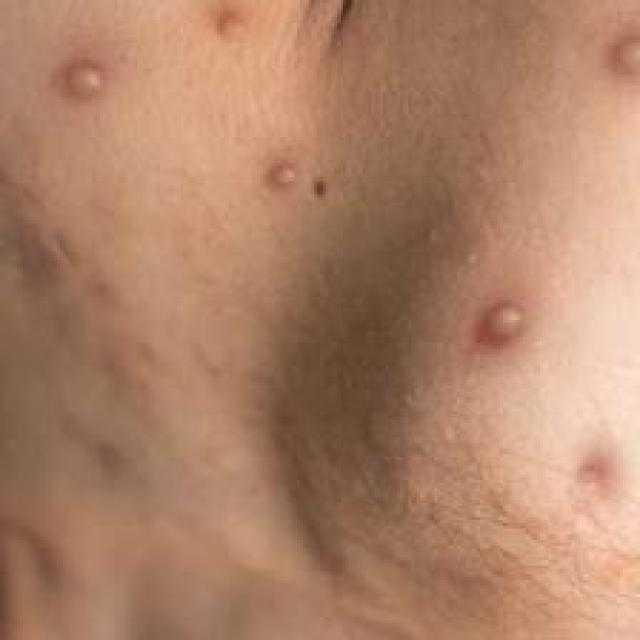monkeypox: (21, 0, 640, 585)
